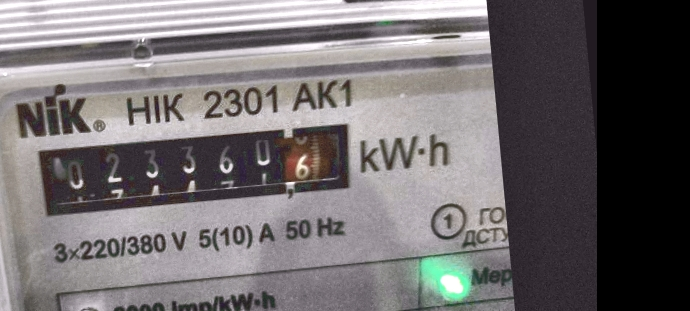0: (63, 156, 87, 191), (252, 135, 272, 167)
2: (100, 149, 126, 185)
3: (138, 146, 162, 180), (177, 142, 199, 174)
6: (213, 141, 236, 175), (289, 149, 313, 180)
screen: (18, 103, 368, 232)
